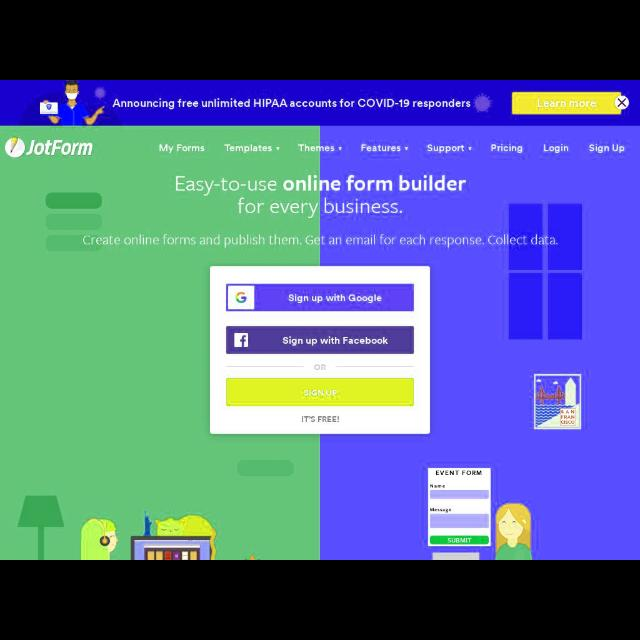backgroundimage: (1, 80, 640, 560)
button: (226, 284, 414, 312), (226, 326, 414, 354), (615, 96, 629, 110)
icon: (618, 99, 626, 108), (338, 147, 342, 151), (404, 147, 408, 151), (468, 147, 472, 151), (276, 148, 280, 150)
image: (228, 286, 254, 310), (5, 138, 25, 158), (235, 333, 249, 347)
spinner: (224, 144, 280, 154), (428, 144, 472, 154), (361, 144, 409, 152), (298, 144, 342, 152)
text: (82, 235, 558, 248), (177, 176, 466, 197), (113, 98, 471, 110), (238, 197, 402, 219), (27, 140, 93, 156), (284, 336, 388, 346), (288, 294, 382, 304), (537, 99, 595, 108), (224, 144, 272, 154), (160, 144, 204, 154), (428, 144, 464, 154), (590, 144, 624, 154), (362, 144, 401, 152), (492, 143, 522, 153), (298, 144, 334, 152), (302, 416, 338, 422), (544, 144, 568, 152), (304, 390, 336, 396), (314, 364, 326, 370)
textbutton: (228, 378, 414, 406), (512, 92, 622, 114)
